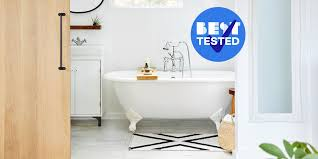bathub: (102, 66, 245, 139)
